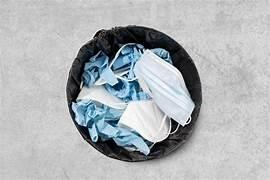Mask: (134, 50, 193, 125), (118, 99, 170, 142), (77, 85, 126, 108)
